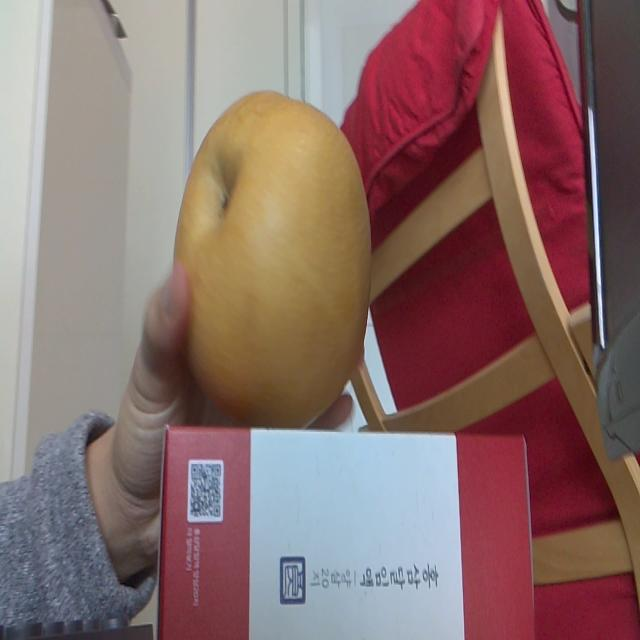pear: (169, 88, 372, 422)
